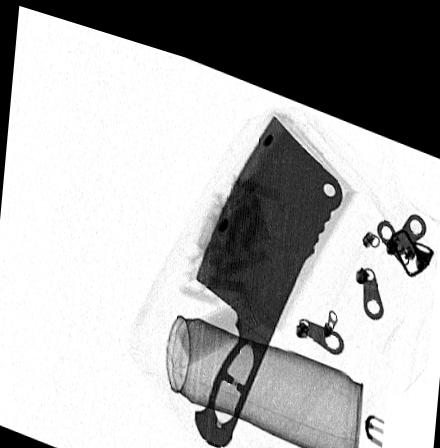Knife: (191, 97, 342, 435)
